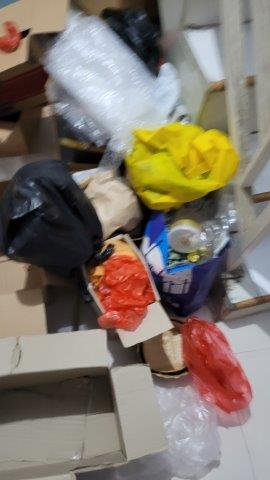plastik: (51, 10, 176, 153), (10, 167, 98, 272), (180, 315, 256, 411), (150, 391, 221, 471), (95, 259, 152, 329)
